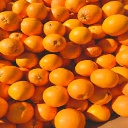orange: (42, 85, 70, 107), (6, 81, 35, 101), (1, 36, 24, 56), (44, 34, 68, 52)
